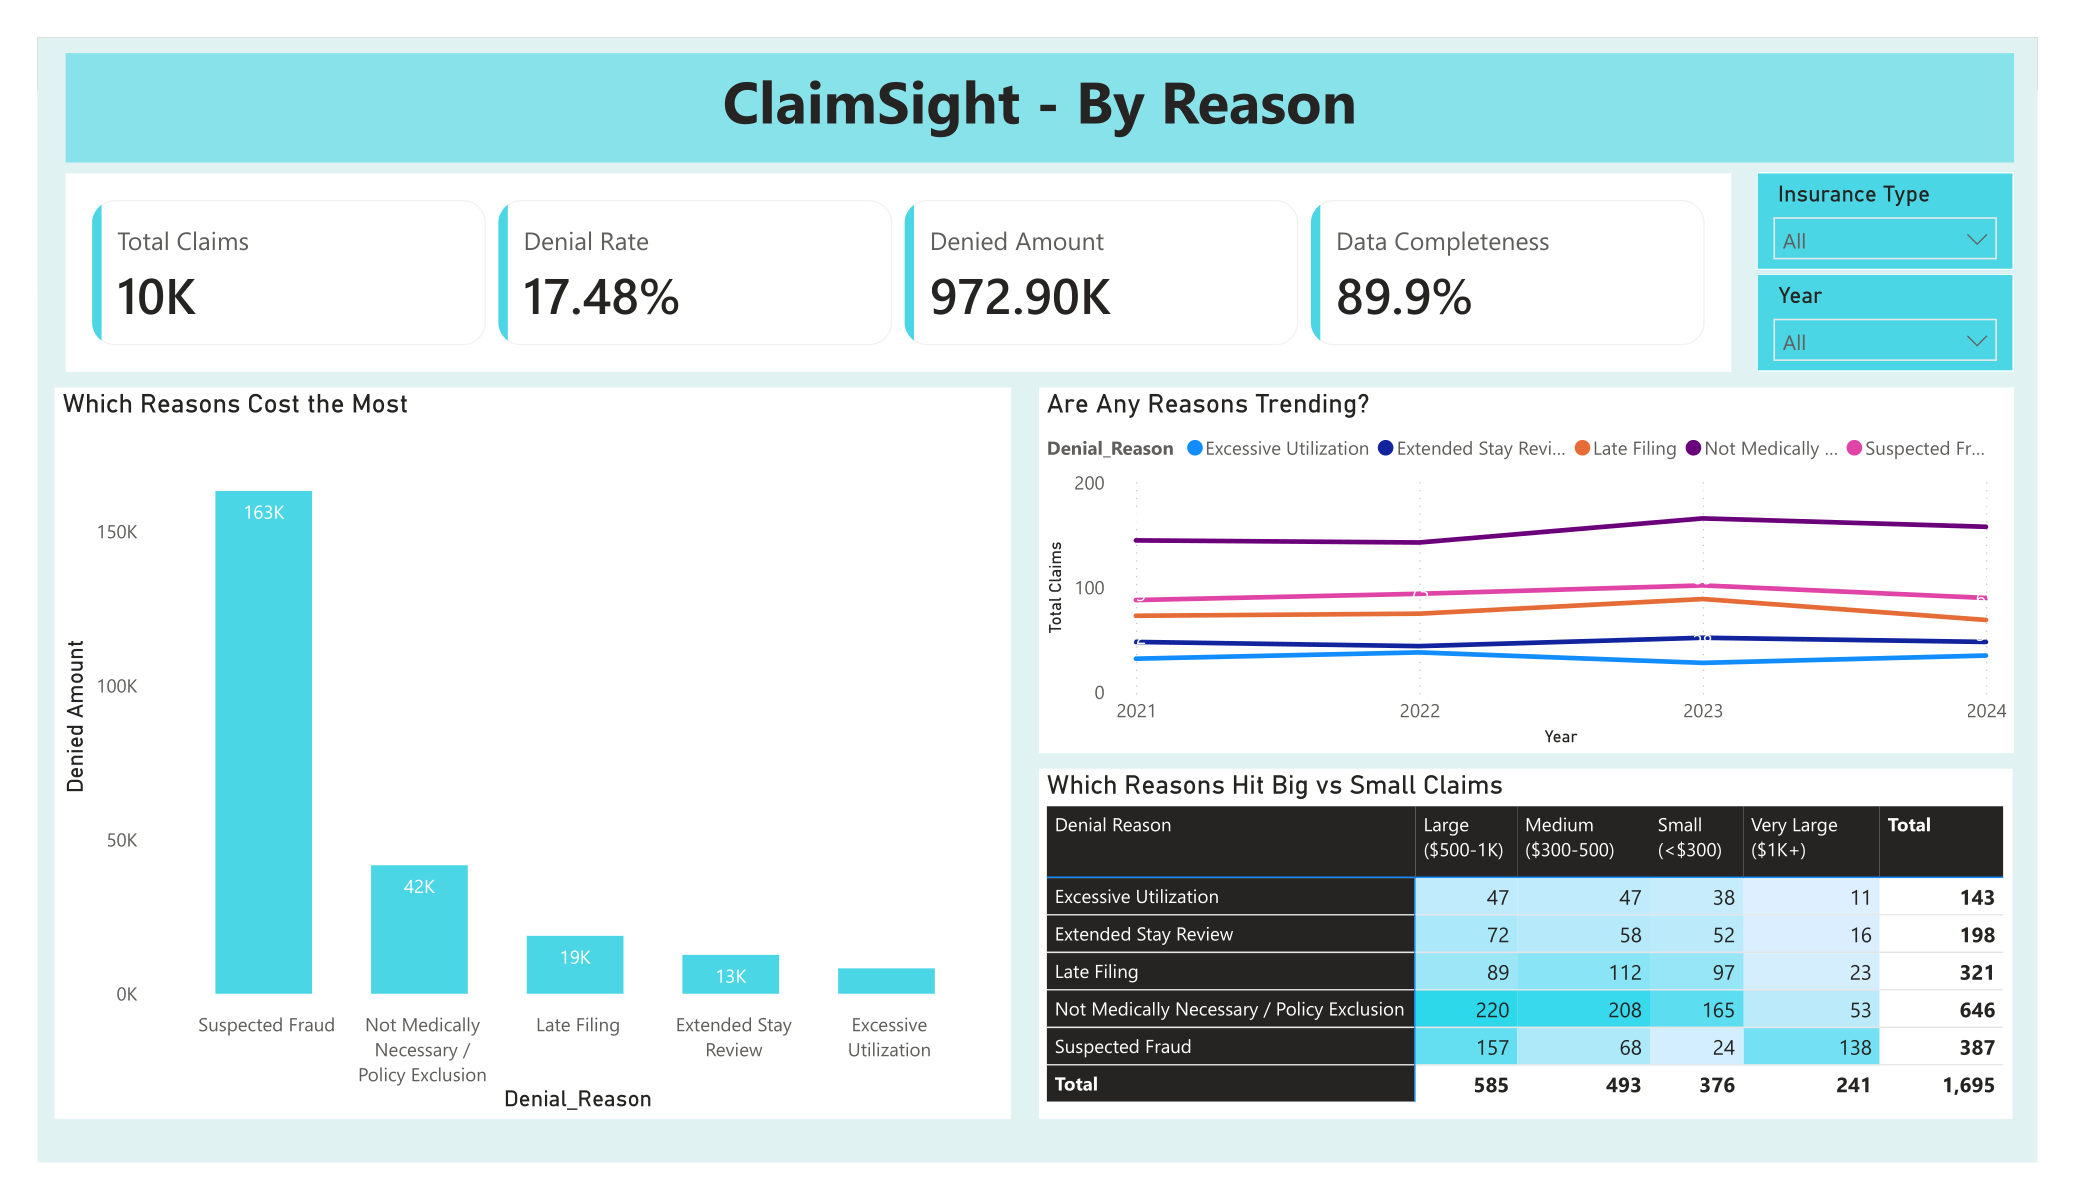

Layout of this report page (visuals, bound fields, positions):
{"tool":"powerbi","page":{"name":"By Reason","canvas":[1280,720],"ordinal":3},"visuals":[{"type":"clusteredColumnChart","title":"Which Reasons Cost the Most","fields":{"Category":["claims.Denial_Reason"],"Y":["Sum(claims.Denied_Amount)"]},"box":[11,223.7,612,468],"z":0},{"type":"slicer","fields":{"Values":["claims.Insurance_Type"]},"box":[1100.2,86.2,164.9,62.8],"z":1000},{"type":"slicer","fields":{"Values":["DateTable.Year"]},"box":[1100.2,151.1,164.9,62.8],"z":2000},{"type":"lineChart","title":"Are Any Reasons Trending?","fields":{"Category":["DateTable.Year"],"Series":["claims.Denial_Reason"],"Y":["claims.Total Claims"]},"box":[641,223.7,624.4,234],"z":3000},{"type":"textbox","box":[17.5,9.7,1247.9,70],"z":4000},{"type":"cardVisual","fields":{"Data":["claims.Total Claims","claims.Denial Rate","Sum(claims.Denied_Amount)","claims.Data Completeness"]},"box":[17.5,86.6,1066,127.4],"z":5000},{"type":"pivotTable","title":"Which Reasons Hit Big vs Small Claims","fields":{"Columns":["claims.Claim_Value_Bucket"],"Rows":["claims.Denial_Reason"],"Values":["claims.Total Claims"]},"box":[641,467.8,623.5,223.7],"z":6000}]}

Visuals, with their boxes on the page's 1280x720 design canvas (x1, y1, x2, y2). These are canvas units, not pixel positions in the 2075x1200 screenshot, which may show the page scaled, cropped or inside an application window:
"Which Reasons Cost the Most" clusteredColumnChart: [11,224,623,692]
slicer - claims.Insurance_Type: [1100,86,1265,149]
slicer - DateTable.Year: [1100,151,1265,214]
"Are Any Reasons Trending?" lineChart: [641,224,1265,458]
textbox: [18,10,1265,80]
cardVisual - claims.Total Claims x claims.Denial Rate: [18,87,1084,214]
"Which Reasons Hit Big vs Small Claims" pivotTable: [641,468,1264,692]
